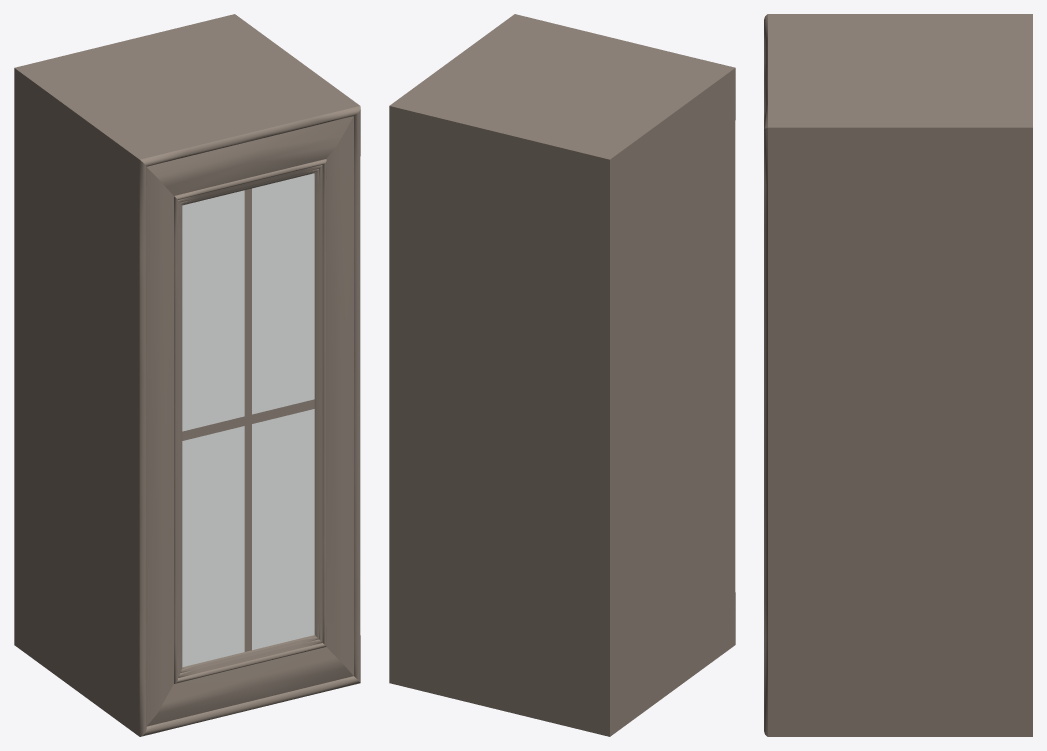
Rendered from Wall-Cabinet-with-Doors-Prepped-for-Glass_std_001_W12in.glb.
3 views of the same model, side by side, from view 1: azimuth 30°, elevation 25°; view 2: azimuth 150°, elevation 25°; view 3: azimuth 270°, elevation 25° (orthographic). The views are drawn at different scales.
Visible parts, largest first — view 1: Wall-Cabinet-with-Doors-Prepped-for-Glass.std.001_W12in; view 2: Wall-Cabinet-with-Doors-Prepped-for-Glass.std.001_W12in; view 3: Wall-Cabinet-with-Doors-Prepped-for-Glass.std.001_W12in.
Part boxes in pixels (x1,y1,x2,y2): Wall-Cabinet-with-Doors-Prepped-for-Glass.std.001_W12in: (14,14,360,736); Wall-Cabinet-with-Doors-Prepped-for-Glass.std.001_W12in: (389,14,735,736); Wall-Cabinet-with-Doors-Prepped-for-Glass.std.001_W12in: (764,14,1032,736).
Size of the model in its own units: 0.3048 by 0.762 by 0.3048.
